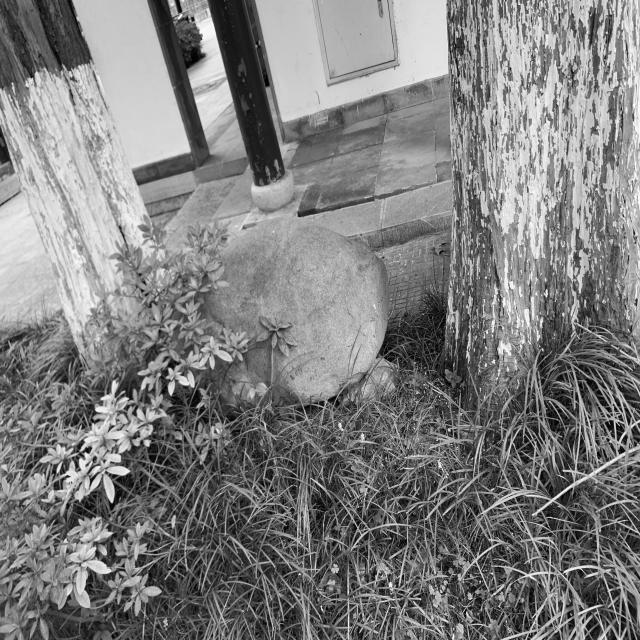Pole: (209, 0, 294, 211)
Stone: (204, 217, 395, 402)
Tree: (445, 0, 640, 405), (0, 0, 146, 354)
